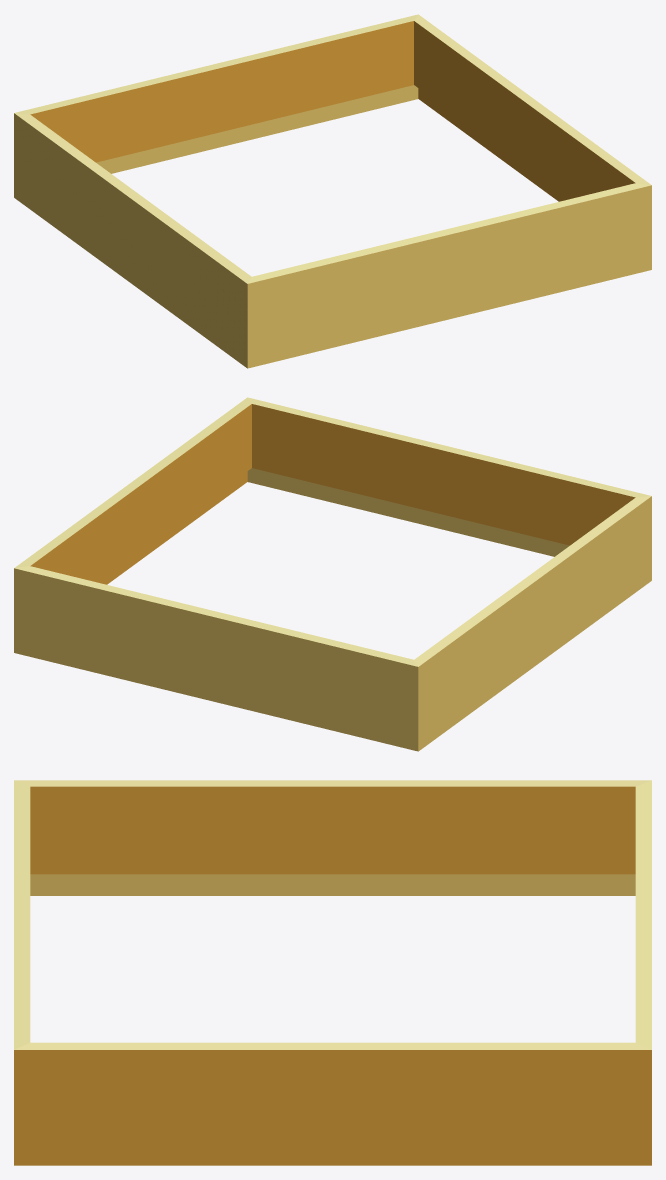
File: box_middle.glb
The picture shows the model from 3 angles, top to bottom: view 1: azimuth 30°, elevation 25°; view 2: azimuth 150°, elevation 25°; view 3: azimuth 270°, elevation 25°; orthographic projection. The views are drawn at different scales.
Parts seen in each view (by area): view 1: box.l; view 2: box.l; view 3: box.l.
Boxes of the visible parts, x1=… form: box.l: x1=14, y1=14, x2=651, y2=368; box.l: x1=14, y1=397, x2=651, y2=751; box.l: x1=14, y1=780, x2=651, y2=1165.
Size of the model in its own units: 18.57 by 3.73 by 18.57.
1 material, 1 textured.
